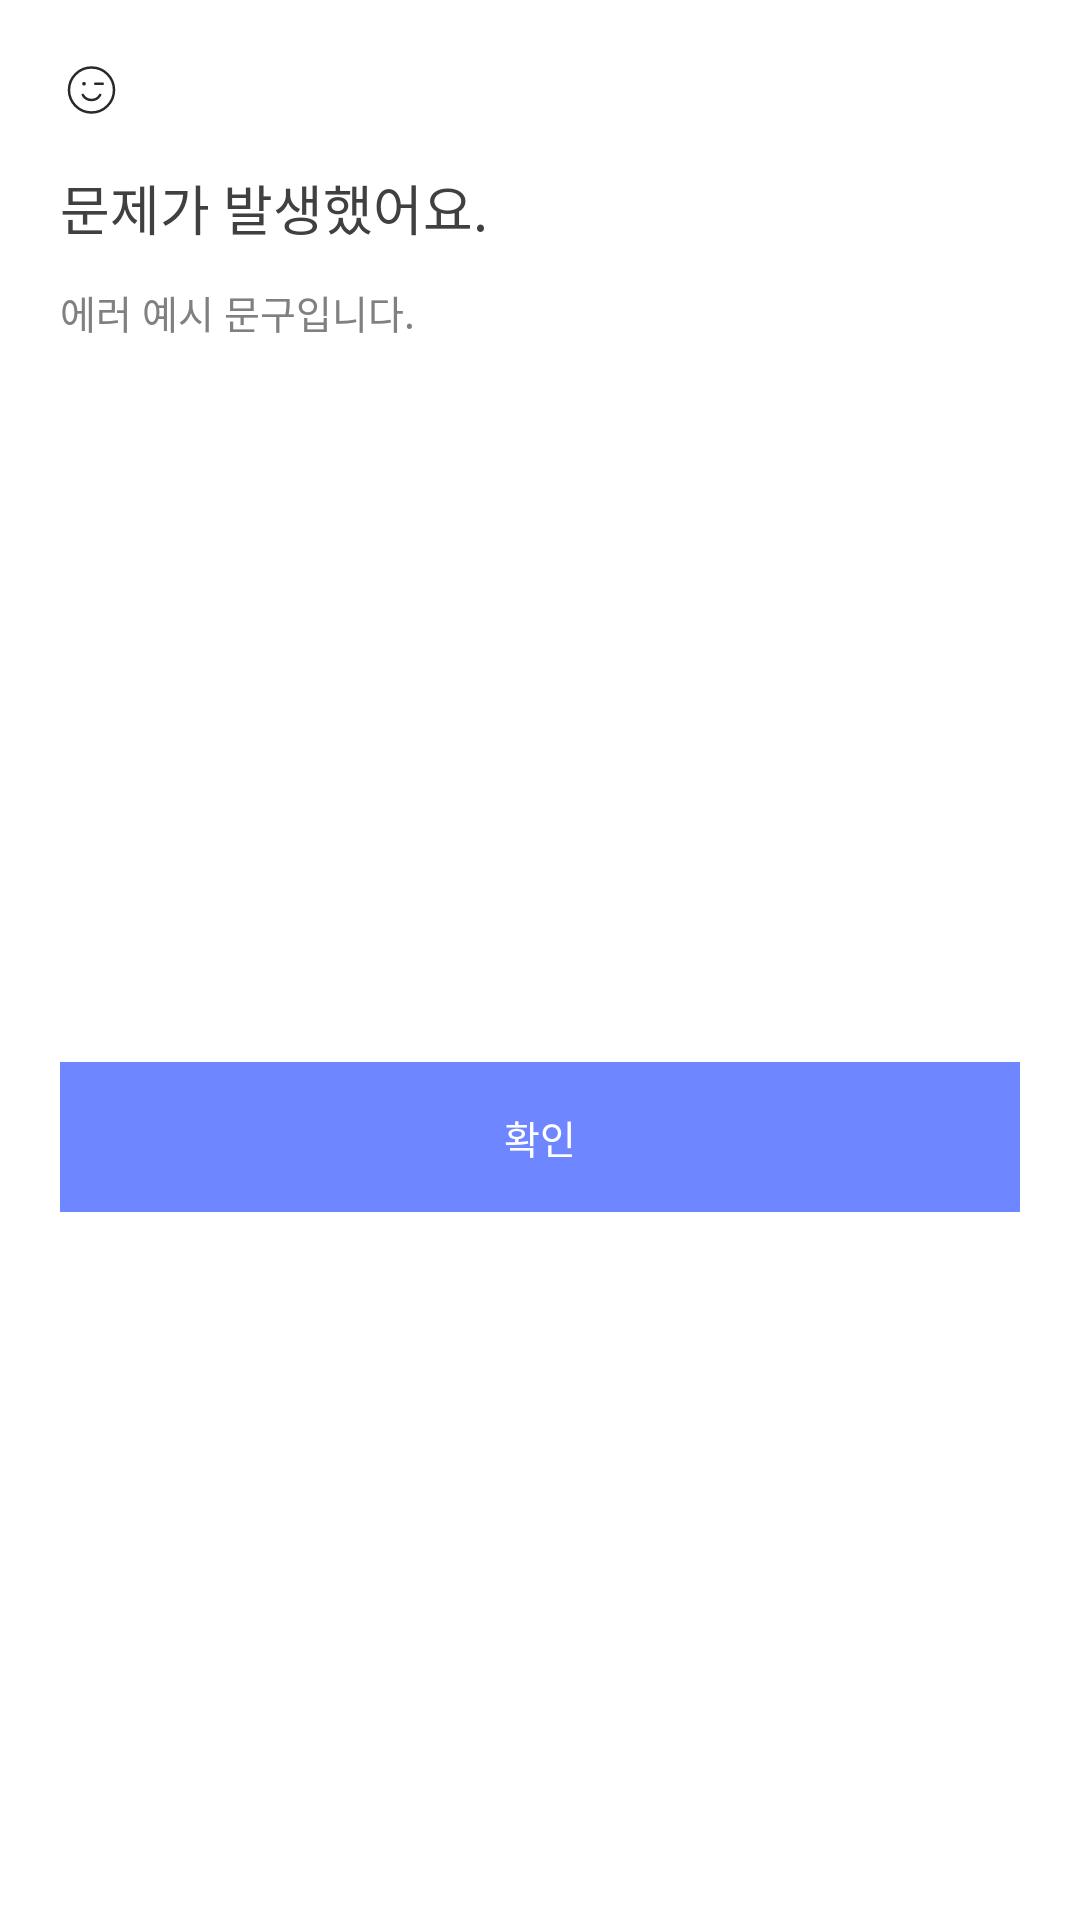

Screen size 1080x1920. Icon name, then its box in pixels as (x1, y1, x2, y2):
emoji winking face: (67, 66, 116, 114)
